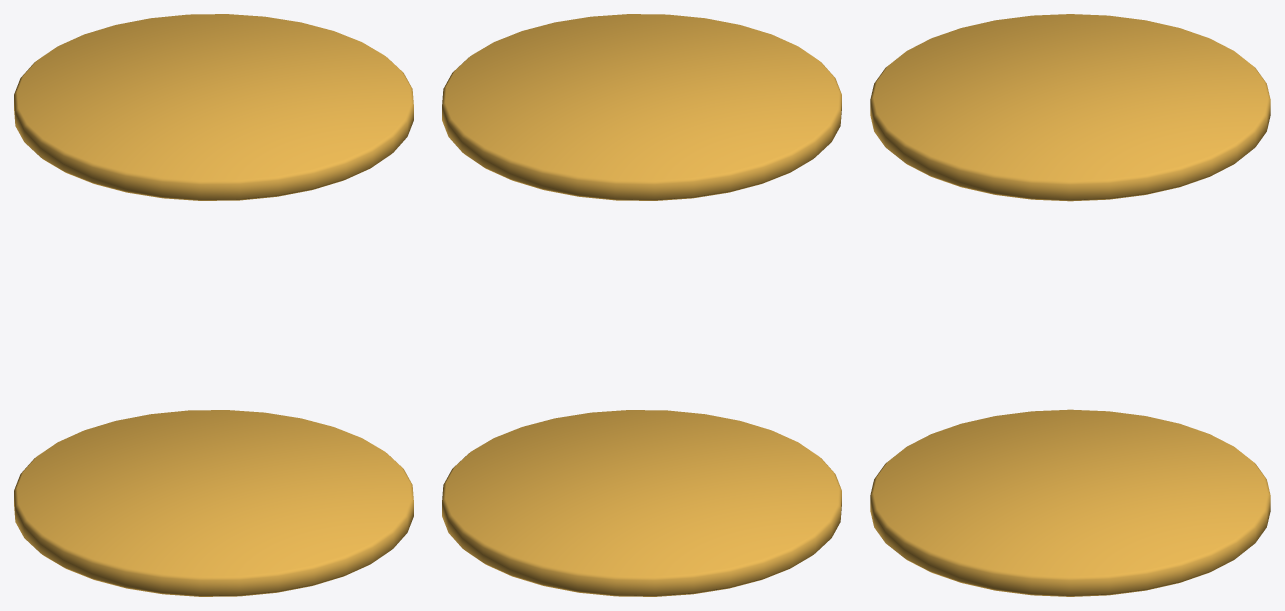
File: hourglass caps.fbx
3 views of the same model, side by side, from view 1: azimuth 30°, elevation 25°; view 2: azimuth 150°, elevation 25°; view 3: azimuth 270°, elevation 25° (orthographic).
Visible parts, largest first — view 1: hourglass caps; view 2: hourglass caps; view 3: hourglass caps.
Boxes of the visible parts, bbox=[...] form: hourglass caps: bbox=[14, 14, 413, 596]; hourglass caps: bbox=[442, 14, 841, 596]; hourglass caps: bbox=[870, 14, 1270, 596].
Size of the model in its own units: 122 by 140 by 122.
